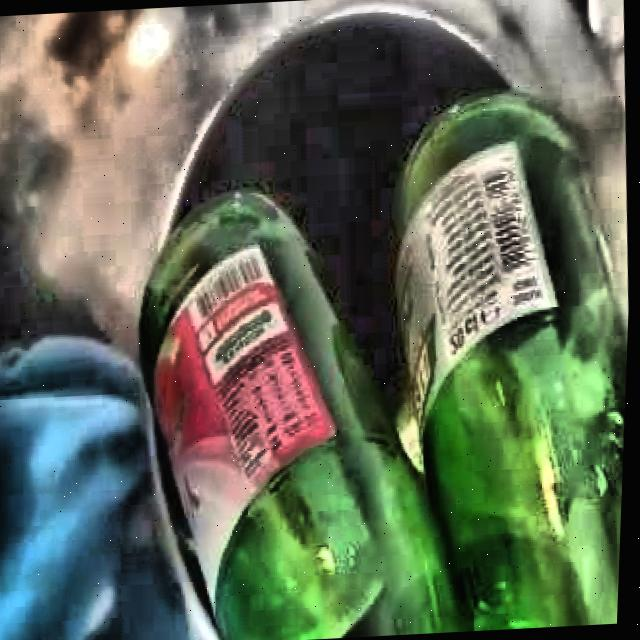glass: (142, 88, 630, 640)
